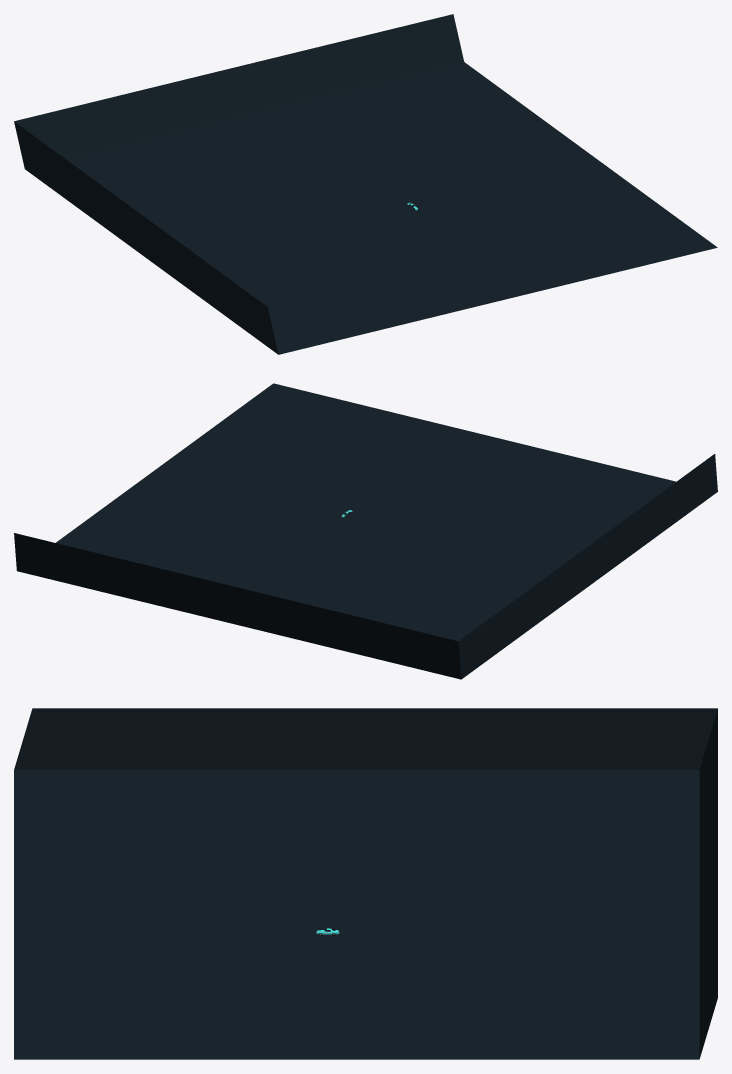
The model's file is mustang.glb.
3 renders of one model, top to bottom at view 1: azimuth 30°, elevation 25°; view 2: azimuth 150°, elevation 25°; view 3: azimuth 270°, elevation 25°, orthographic. The views are drawn at different scales.
Parts seen in each view (by area): view 1: Plane; view 2: Plane; view 3: Plane.
Part boxes in pixels (bbox=[...]): Plane: bbox=[14, 14, 717, 354]; Plane: bbox=[14, 383, 717, 679]; Plane: bbox=[14, 708, 717, 1059].
Bounding box in the file's own units: 103 × 9.77 × 105.
